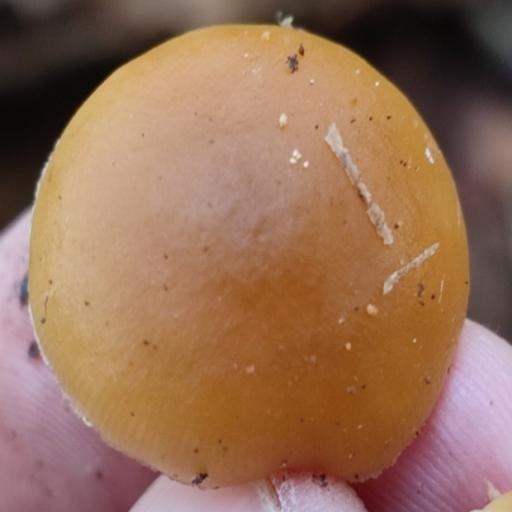mushroom: (24, 14, 485, 478)
